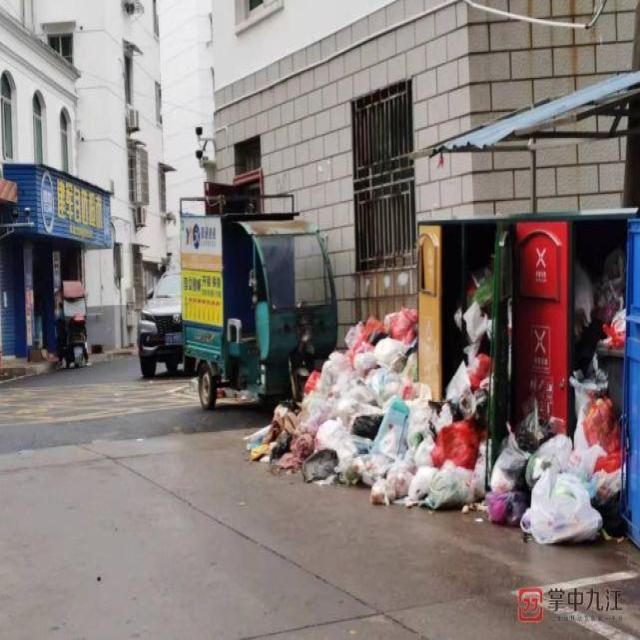garbage: (242, 254, 625, 546)
